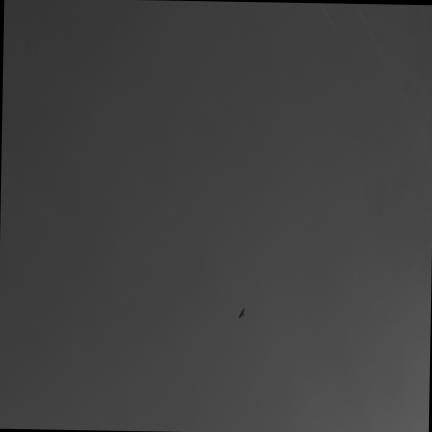Shahed: (238, 307, 243, 317)
